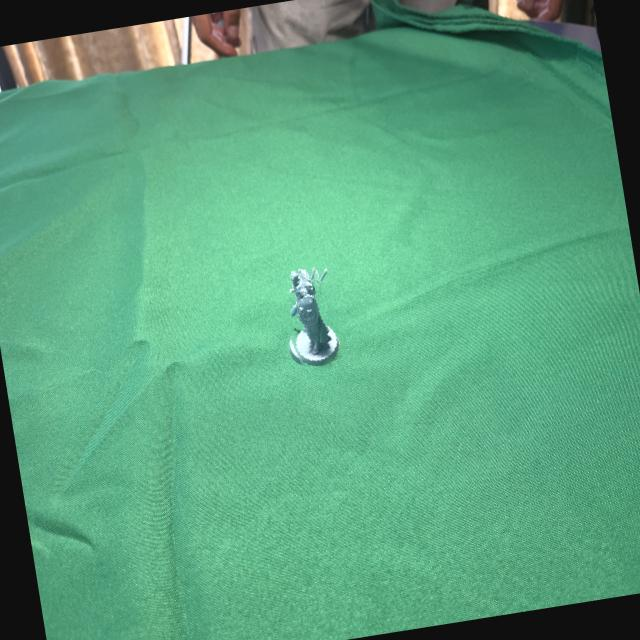isis_follower: (268, 256, 346, 373)
